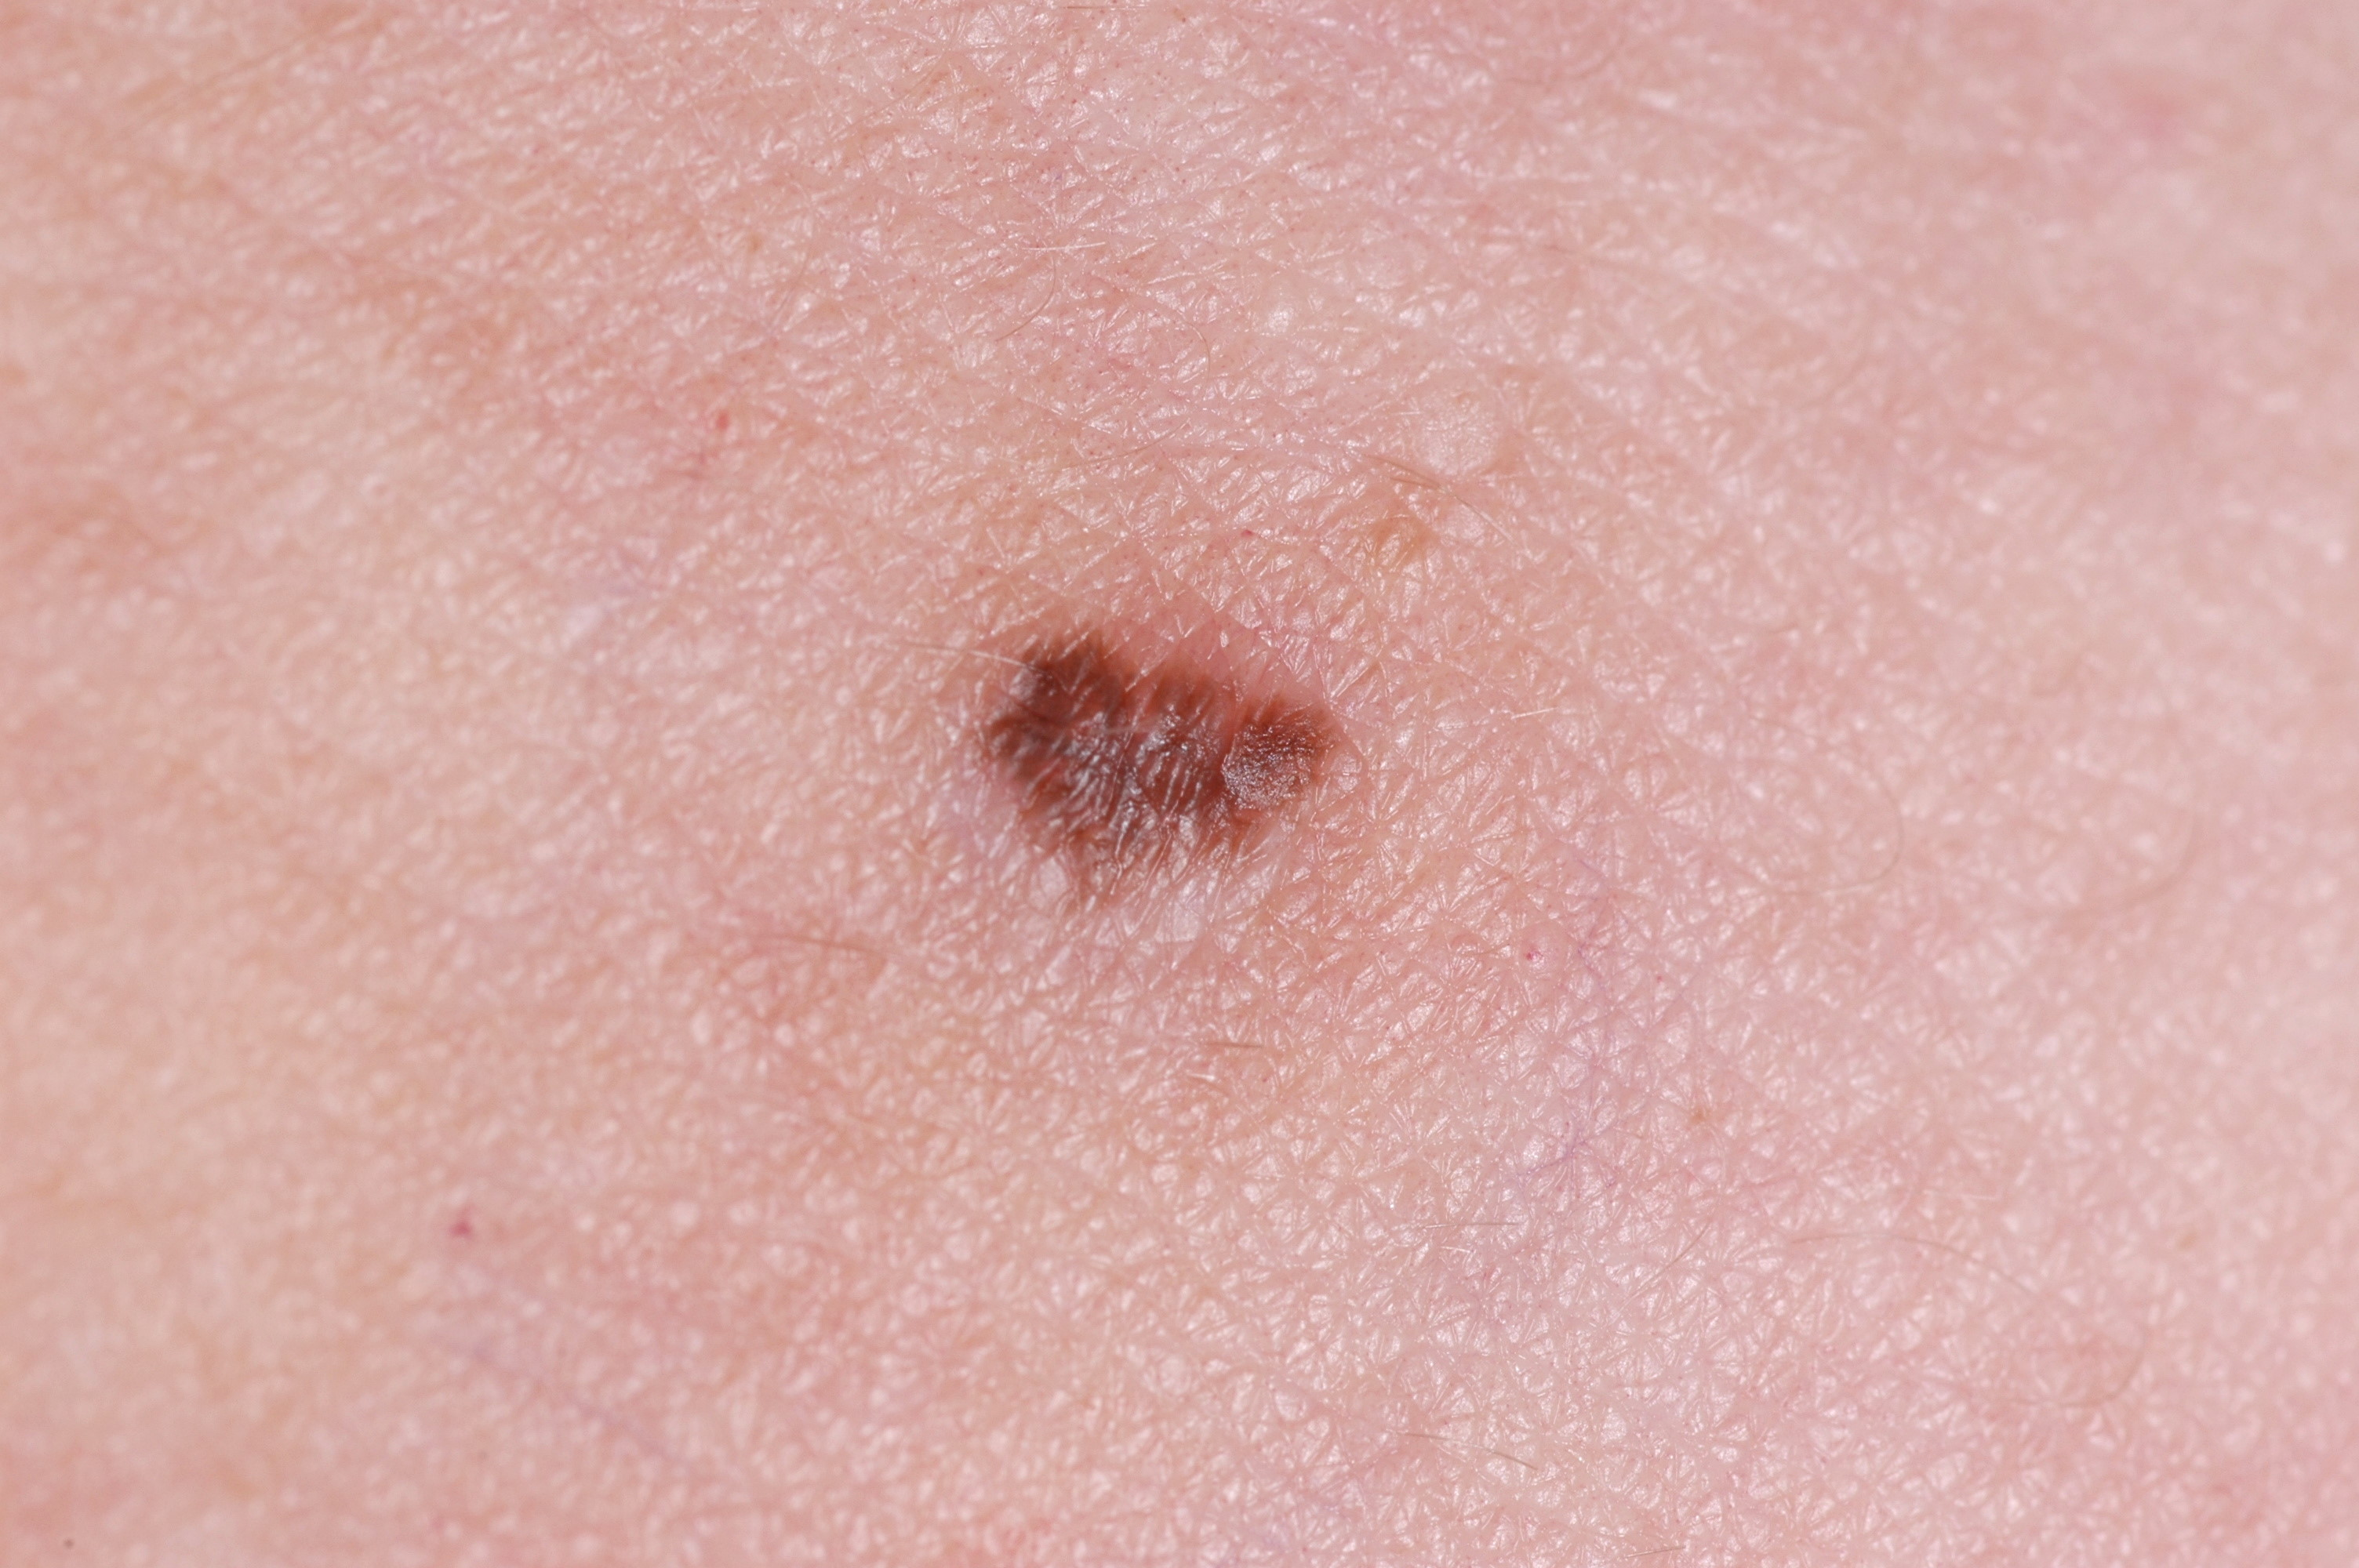Color changes: (1194, 679, 1323, 800)
